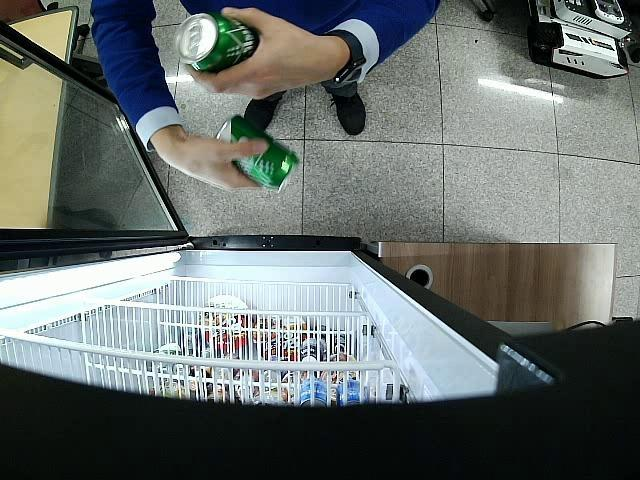12_chilsungCider: (216, 114, 300, 192), (172, 13, 256, 74)
